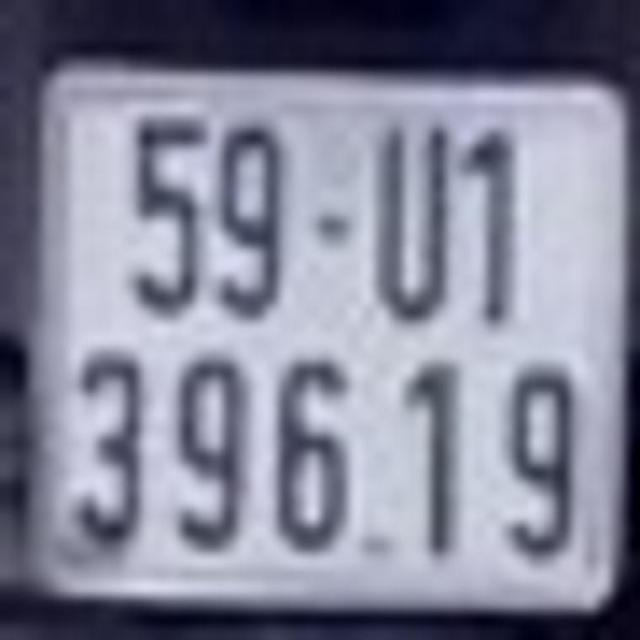1: (401, 344, 462, 555), (464, 127, 525, 320)
3: (76, 346, 146, 546)
5: (122, 107, 206, 320)
6: (276, 352, 350, 559)
9: (500, 354, 571, 557), (213, 116, 280, 319), (173, 356, 235, 550)
U: (375, 123, 453, 320)
